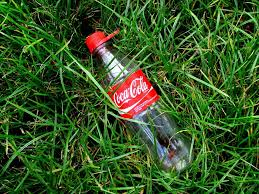Coca-Cola: (111, 70, 153, 117), (113, 76, 149, 107)
bottle: (84, 25, 199, 174)
plastic: (82, 30, 200, 178)
